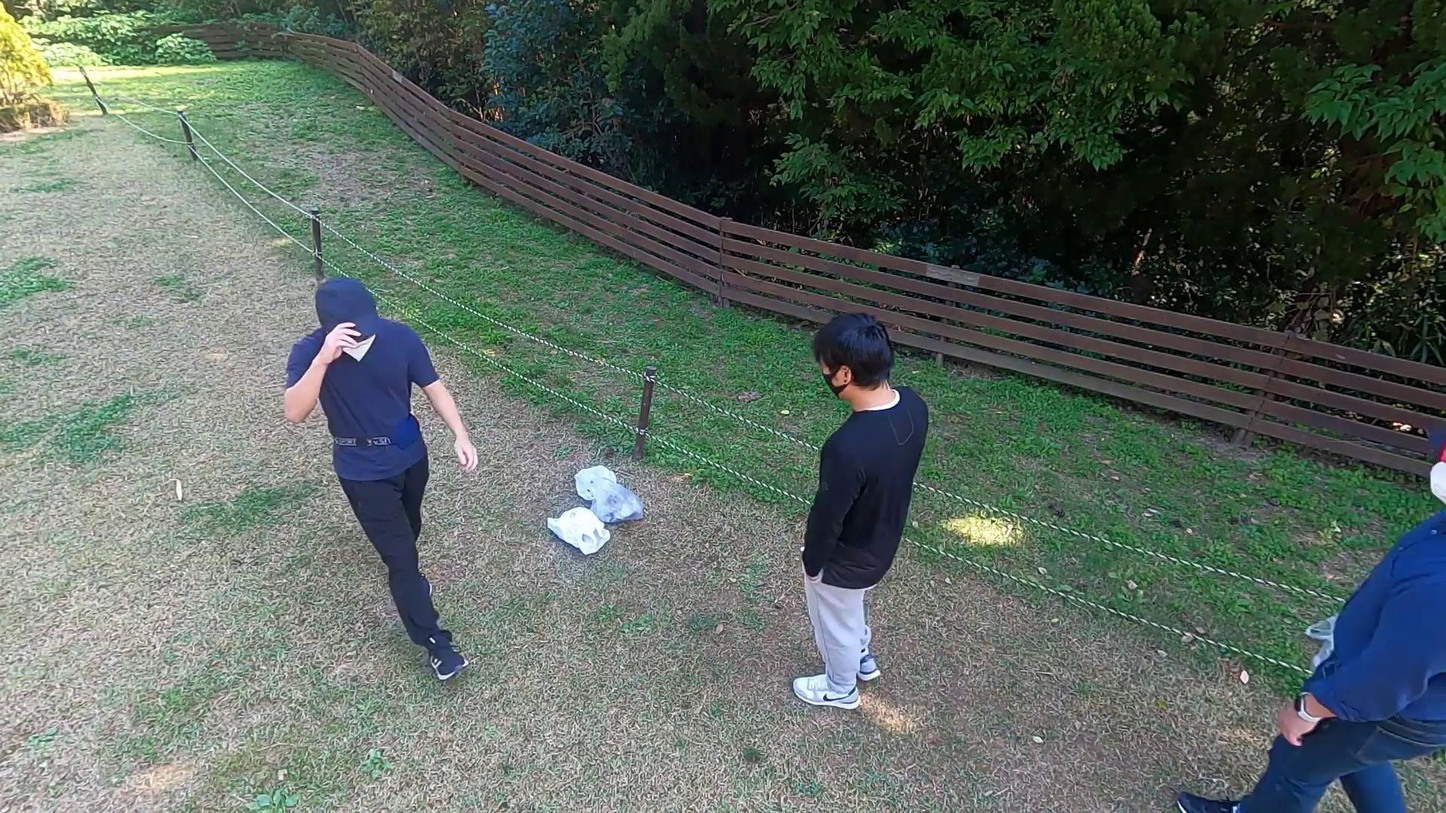person: (1165, 415, 1446, 813), (282, 270, 482, 683), (786, 308, 937, 716)
trash: (543, 503, 615, 556), (587, 483, 651, 525), (574, 466, 622, 510)
